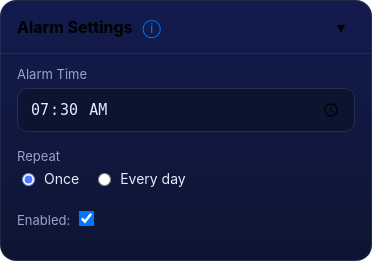
it: AlarmCard › Interactions › dynamically disables/enables time and repeat fields when the enabled checkbox is toggled
Expected: the time field is enabled, [17, 88, 355, 132]
Expected: the radio button labelled "Once" is enabled, [22, 173, 35, 186]
Click the checkbox labelled "Enabled:" at (87, 218), box [79, 210, 94, 226]
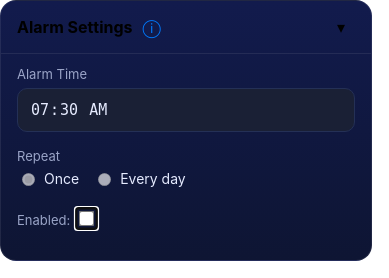
Now the time field is disabled, box [17, 88, 355, 132]
Now the radio button labelled "Once" is disabled, box [22, 173, 35, 186]
